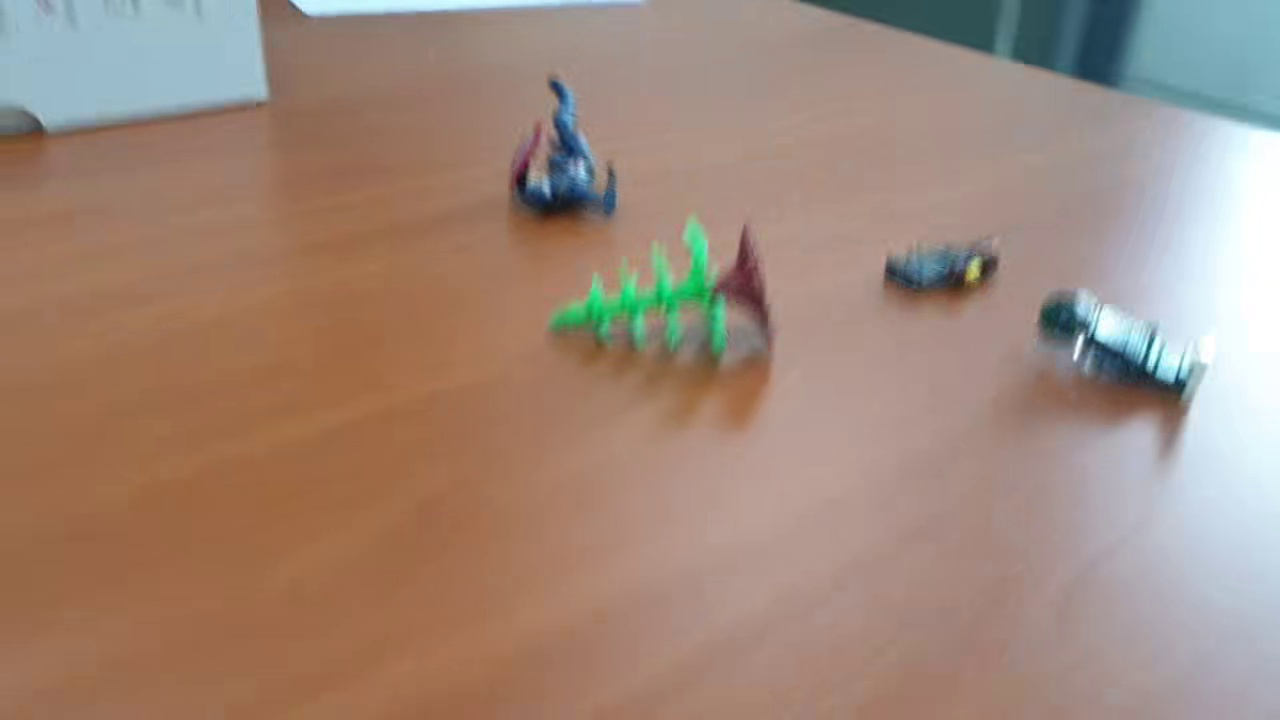people: (1034, 287, 1218, 412), (504, 70, 619, 227), (882, 234, 1001, 300)
tree: (544, 212, 773, 374)
